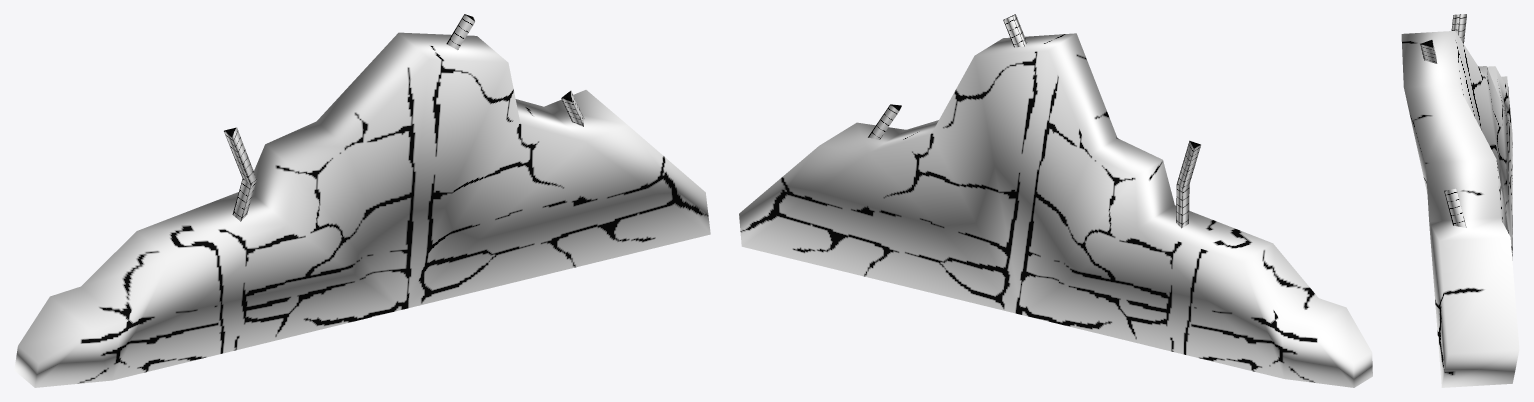
Rendered from Building_02_05.fbx.
3 views of the same model, side by side, from view 1: azimuth 30°, elevation 25°; view 2: azimuth 150°, elevation 25°; view 3: azimuth 270°, elevation 25° (orthographic). The views are drawn at different scales.
Parts seen in each view (by area): view 1: Building_02_05; view 2: Building_02_05; view 3: Building_02_05.
Boxes of the visible parts, x1,y1,x2,y2 form: Building_02_05: [14, 14, 710, 387]; Building_02_05: [739, 14, 1372, 387]; Building_02_05: [1401, 14, 1519, 387].
Bounding box in the file's own units: 6.76 × 2.78 × 1.22.
